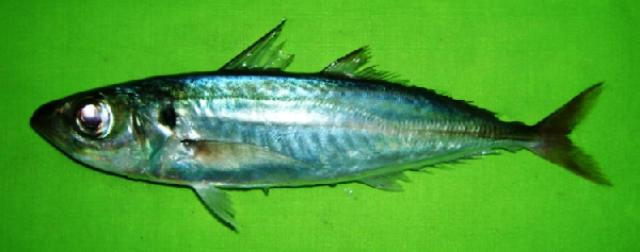Mulut: (18, 90, 68, 170)
Sirip Anal: (350, 142, 498, 198)
Sirip Dada: (180, 129, 310, 177)
Sirip Ekor: (527, 69, 621, 191)
Sirip Perut: (190, 176, 250, 240)
Sirip Punggung: (216, 19, 404, 92)
